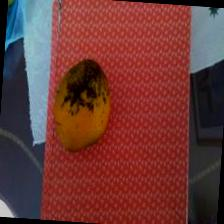Orange Rotten: (44, 52, 118, 162)
